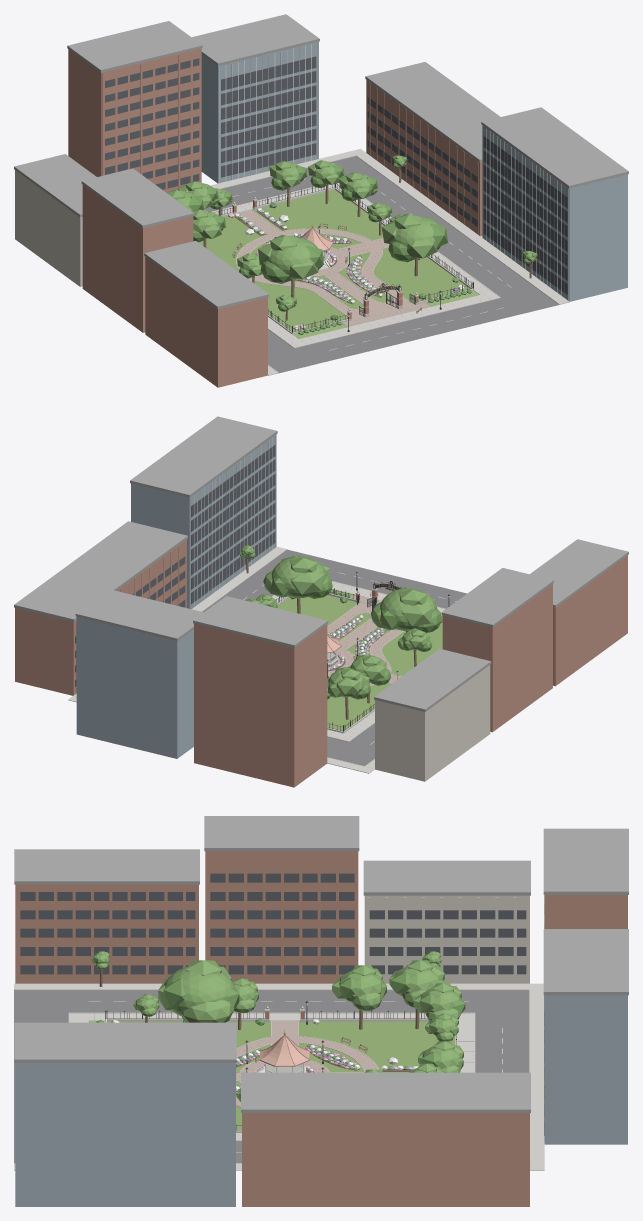
The model's file is clay-halifax-public-gardens-clay-v001.glb.
3 views of the same model, one above another, from view 1: azimuth 30°, elevation 25°; view 2: azimuth 150°, elevation 25°; view 3: azimuth 270°, elevation 25° (orthographic). The views are drawn at different scales.
Visible parts, largest first — view 1: CLAY_FACADE, CLAY_TROOF, CLAY_DARK, CLAY_FACADE3, CLAY_ASPHALT, CLAY_GRASS, CLAY_TREE, CLAY_CONCRETE, CLAY_TRIM, CLAY_FACADE2, CLAY_PAVING, CLAY_TREE2 (+5 smaller); view 2: CLAY_FACADE, CLAY_TROOF, CLAY_FACADE3, CLAY_FACADE2, CLAY_DARK, CLAY_TREE, CLAY_ASPHALT, CLAY_GRASS, CLAY_TRIM, CLAY_CONCRETE, CLAY_TREE2, CLAY_PAVING (+2 smaller); view 3: CLAY_FACADE, CLAY_TROOF, CLAY_FACADE3, CLAY_DARK, CLAY_ASPHALT, CLAY_TREE, CLAY_FACADE2, CLAY_CONCRETE, CLAY_GRASS, CLAY_GRANITE, CLAY_TREE2, CLAY_PAVING (+2 smaller).
Boxes of the visible parts, bbox=[...] form: CLAY_FACADE: bbox=[68, 48, 482, 387]; CLAY_TROOF: bbox=[14, 14, 628, 309]; CLAY_DARK: bbox=[105, 56, 567, 294]; CLAY_FACADE3: bbox=[201, 41, 627, 301]; CLAY_ASPHALT: bbox=[204, 156, 558, 373]; CLAY_GRASS: bbox=[198, 189, 469, 331]; CLAY_TREE: bbox=[167, 155, 536, 309]; CLAY_CONCRETE: bbox=[210, 149, 569, 375]; CLAY_TRIM: bbox=[219, 42, 568, 300]; CLAY_FACADE2: bbox=[15, 170, 82, 286]; CLAY_PAVING: bbox=[236, 209, 430, 326]; CLAY_TREE2: bbox=[188, 156, 537, 311]; CLAY_FACADE: bbox=[15, 539, 627, 787]; CLAY_TROOF: bbox=[14, 416, 628, 711]; CLAY_FACADE3: bbox=[76, 434, 276, 758]; CLAY_FACADE2: bbox=[375, 665, 490, 781]; CLAY_DARK: bbox=[75, 445, 275, 686]; CLAY_TREE: bbox=[240, 546, 436, 697]; CLAY_ASPHALT: bbox=[202, 549, 466, 765]; CLAY_GRASS: bbox=[277, 595, 442, 730]; CLAY_TRIM: bbox=[190, 435, 276, 608]; CLAY_CONCRETE: bbox=[68, 546, 445, 773]; CLAY_TREE2: bbox=[241, 545, 441, 699]; CLAY_PAVING: bbox=[327, 595, 402, 685]; CLAY_FACADE: bbox=[15, 851, 627, 1206]; CLAY_TROOF: bbox=[14, 816, 628, 1112]; CLAY_FACADE3: bbox=[15, 995, 627, 1206]; CLAY_DARK: bbox=[20, 873, 544, 1135]; CLAY_ASPHALT: bbox=[14, 990, 529, 1163]; CLAY_TREE: bbox=[91, 951, 463, 1101]; CLAY_FACADE2: bbox=[364, 895, 529, 983]; CLAY_CONCRETE: bbox=[14, 983, 544, 1170]; CLAY_GRASS: bbox=[107, 1021, 455, 1129]; CLAY_GRANITE: bbox=[14, 989, 530, 1163]; CLAY_TREE2: bbox=[93, 954, 465, 1099]; CLAY_PAVING: bbox=[236, 1021, 378, 1106].
Bounding box in the file's own units: 98.3 × 32.59 × 100.
